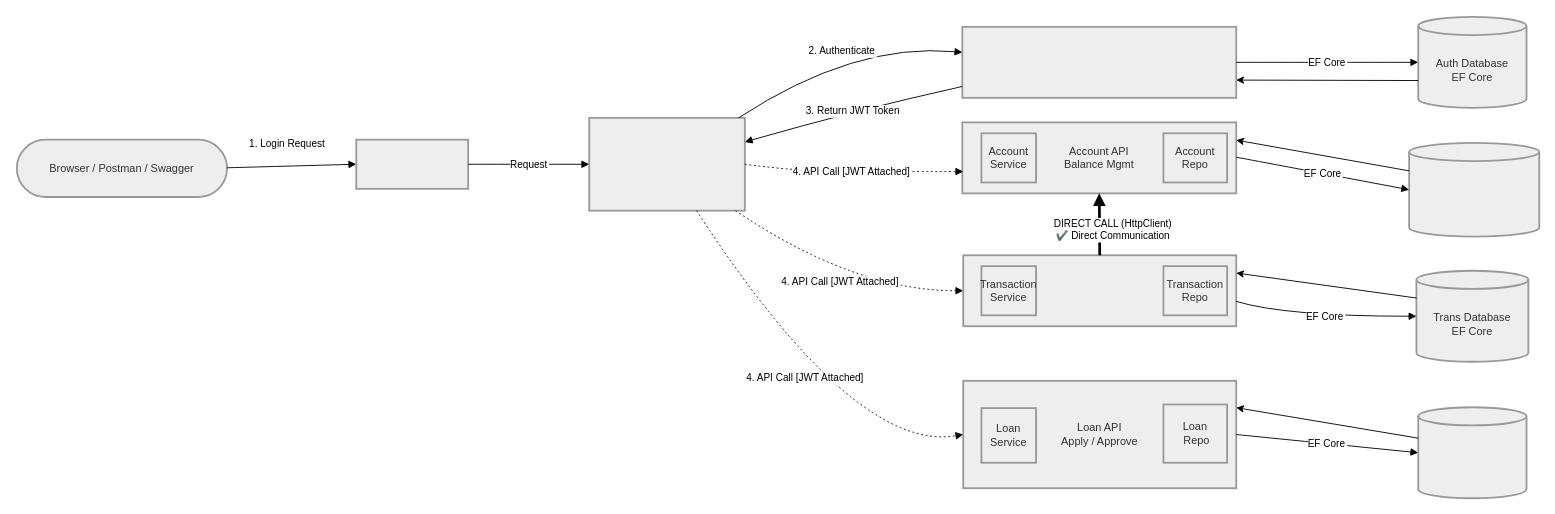
Some shapes in this 1555 by 514 pixel diagram are drawn without their labels. Each missing label, with the box of its shape:
Account Database EF Core: (1408, 142, 1540, 237)
API GATEWAY (Port 7000) JWT Validation: (588, 116, 745, 211)
Auth API JWT: Email, Role, UserId: (961, 25, 1237, 98)
Loan Database EF Core: (1417, 406, 1527, 499)
MVC / UI: (355, 138, 469, 189)
Transaction API Deposit / Withdraw: (962, 254, 1237, 327)
